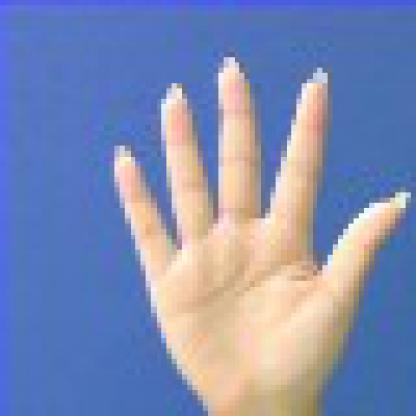five: (93, 47, 410, 411)
